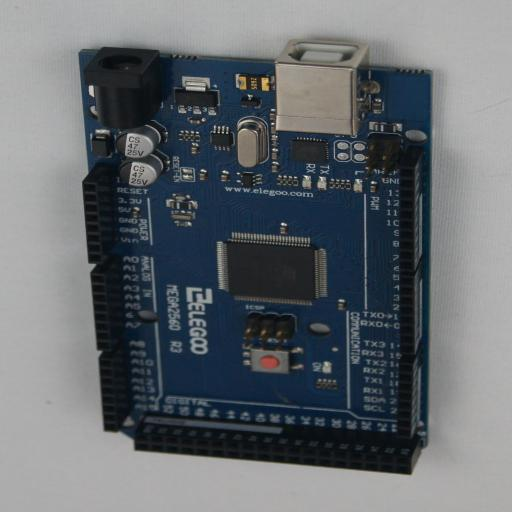Arduino Mega 2560 -Blue-: (78, 42, 432, 474)
